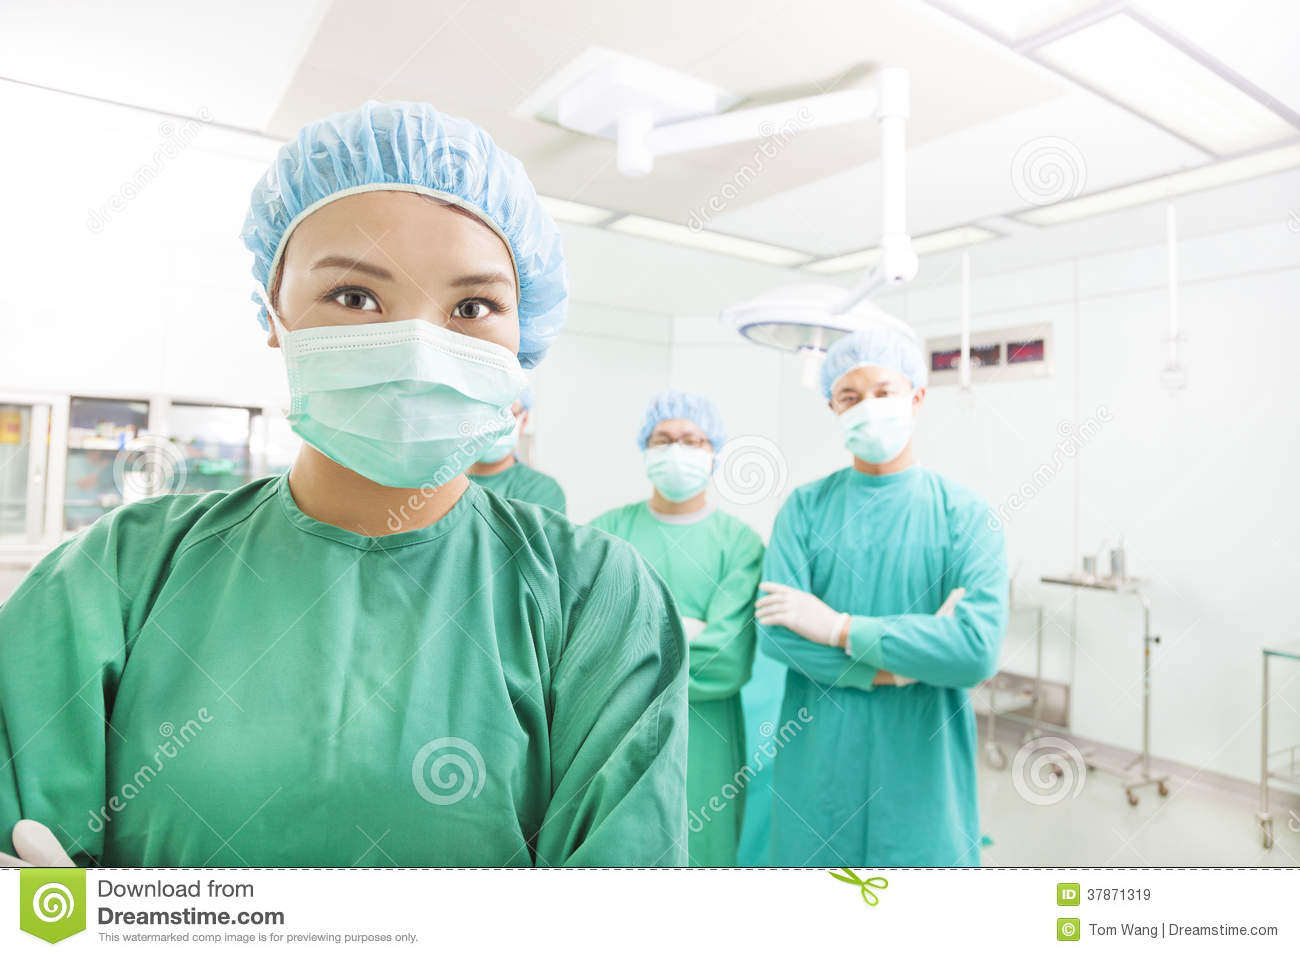mask: (272, 330, 520, 480)
